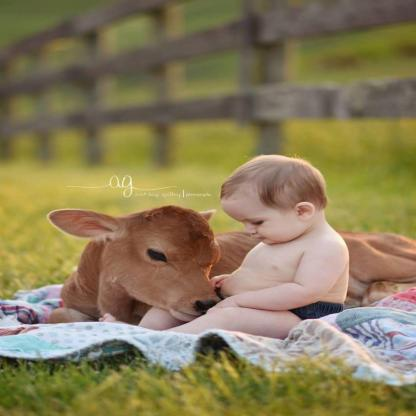cow: (50, 206, 416, 324)
